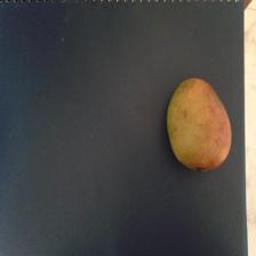Mango Semifresh: (166, 65, 239, 181)
